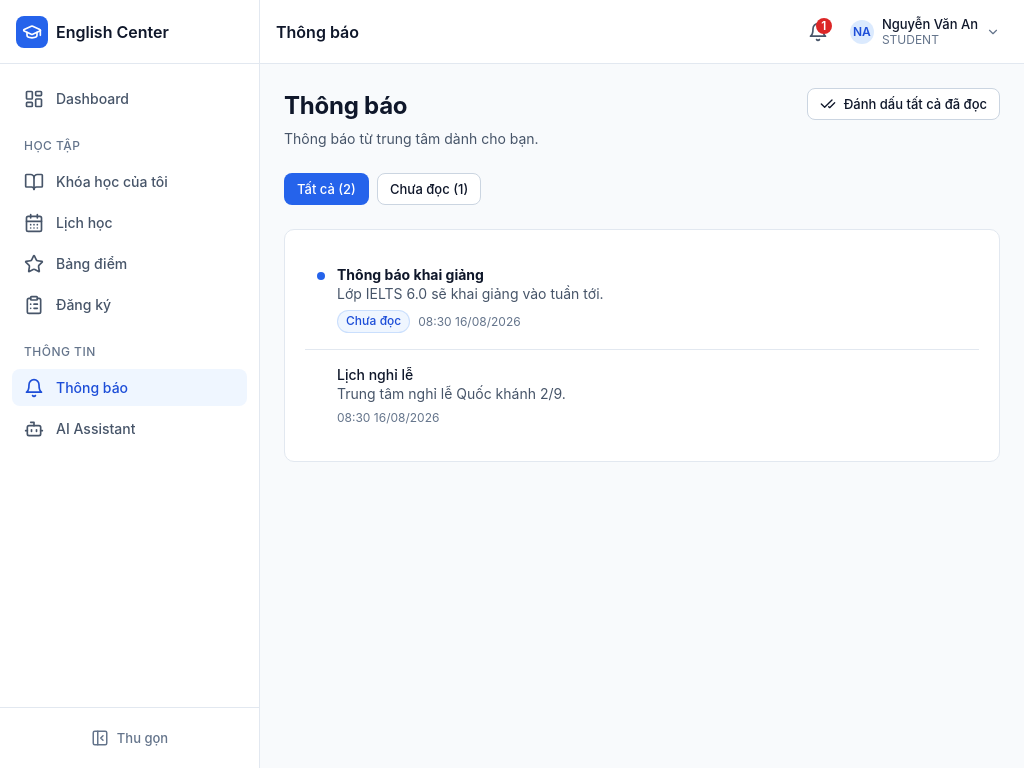
Test: notifications page › opens the detail modal and marks an unread notification as read
What coordinates should you click on to do the following:
click the text "Thông báo khai giảng"
I would click on:
 (410, 274)
Its box is x1=337 y1=266 x2=484 y2=283.
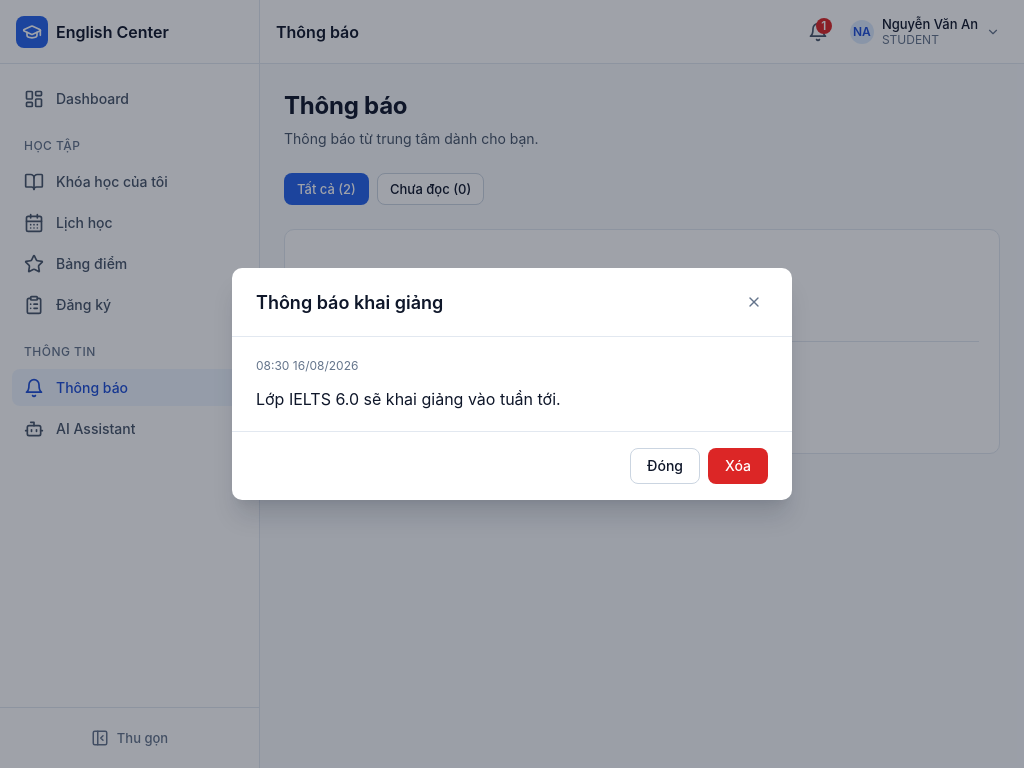
expect the text "Lớp IELTS 6.0 sẽ khai giảng vào tuần tới." is shown: met, box x1=256 y1=389 x2=561 y2=409
